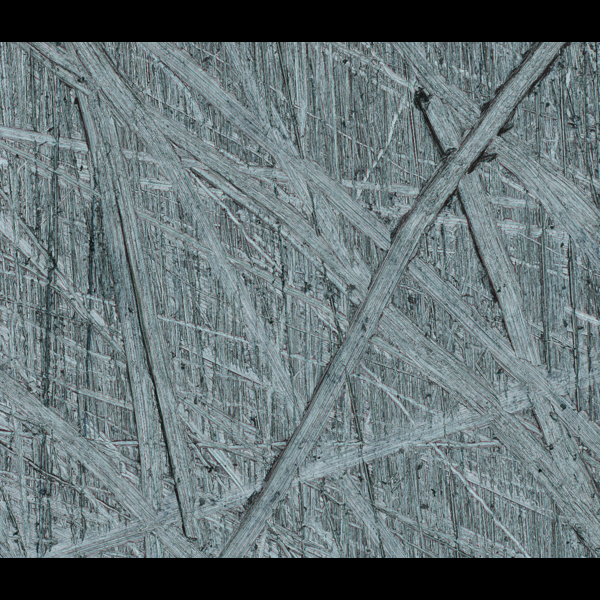d: (5, 44, 595, 557)
